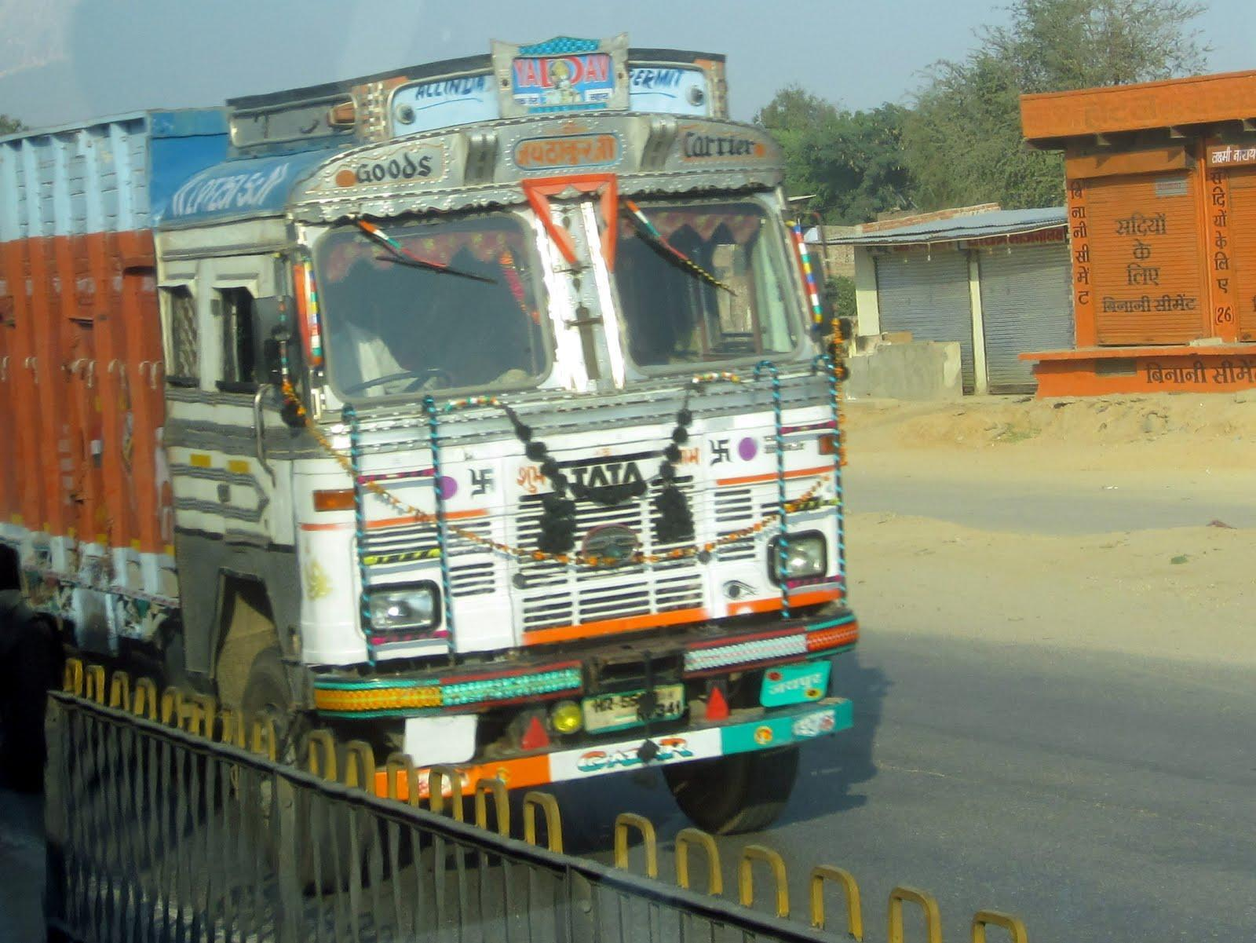truck: (29, 32, 863, 833)
